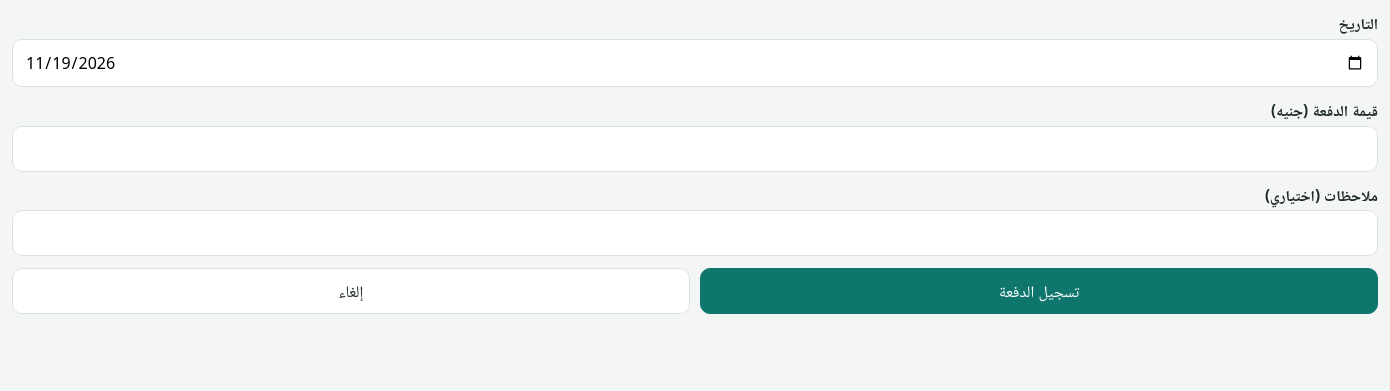
Test: PaymentForm › shows an error and lets the user retry when saving fails
In the date field labelled "التاريخ": (695, 63) [12,39,1378,87], type "2026-10-01"
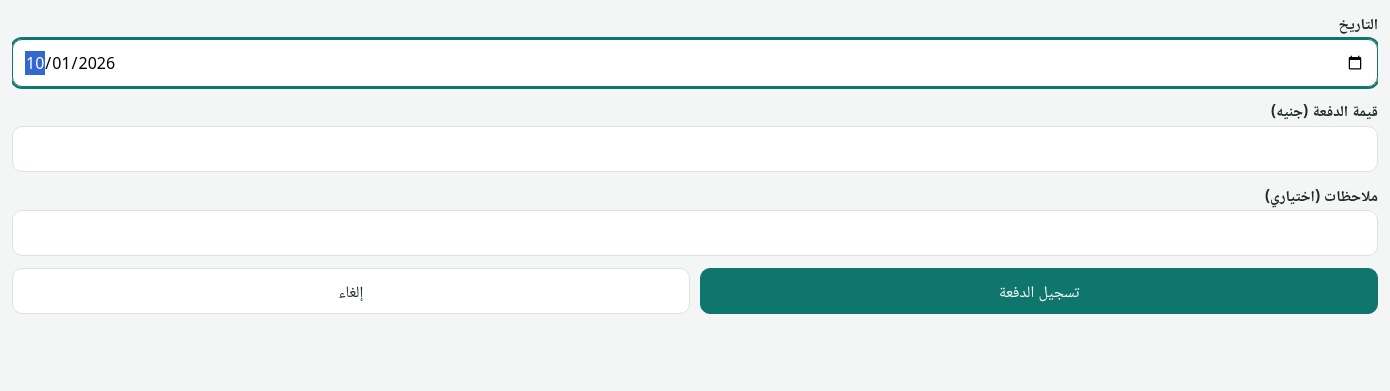
In the number field labelled "قيمة الدفعة (جنيه)": (695, 149) [12,126,1378,172], type "1000"
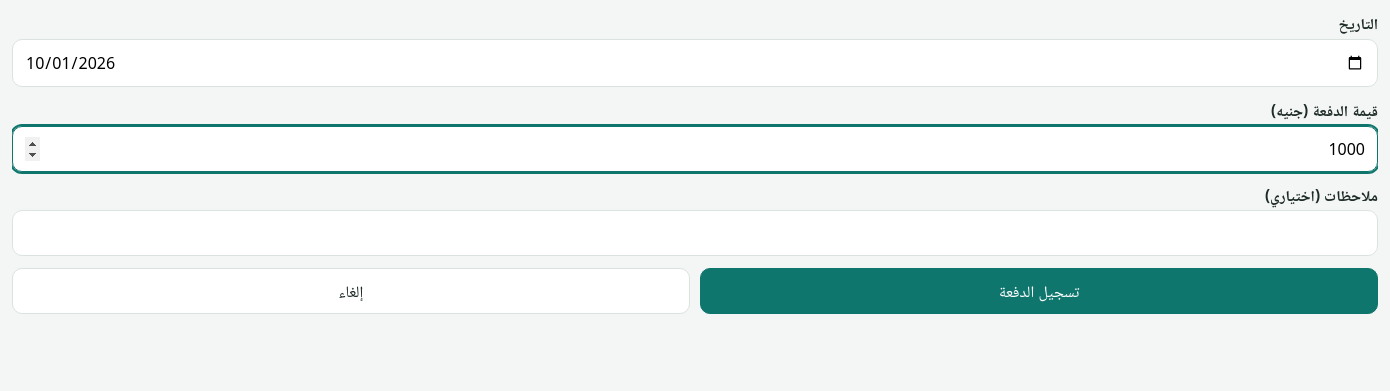
Click the button "تسجيل الدفعة": (1039, 291) [700,268,1378,314]
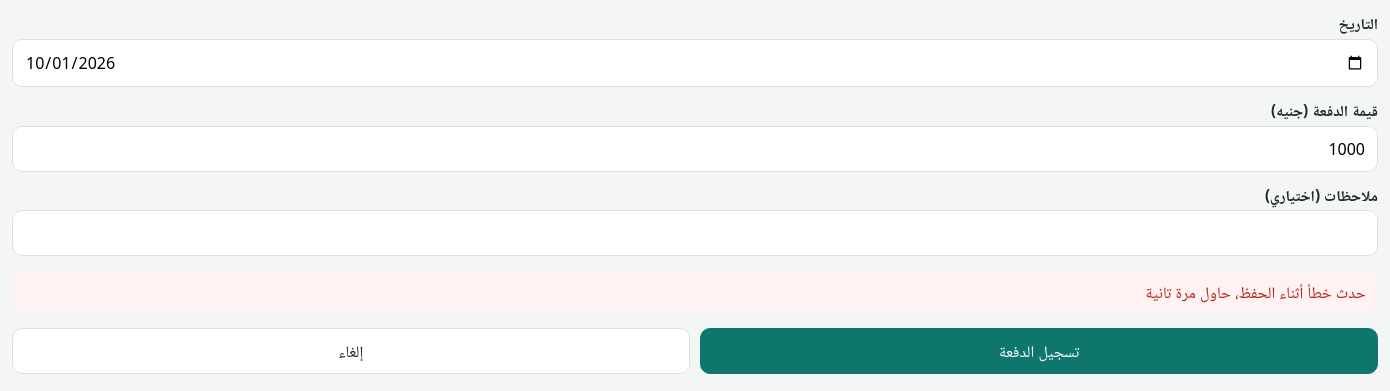
Check: the button "تسجيل الدفعة" is enabled, box [700,328,1378,374]
Check: the text "حدث خطأ أثناء الحفظ، حاول مرة تانية" is shown, box [12,272,1378,312]
